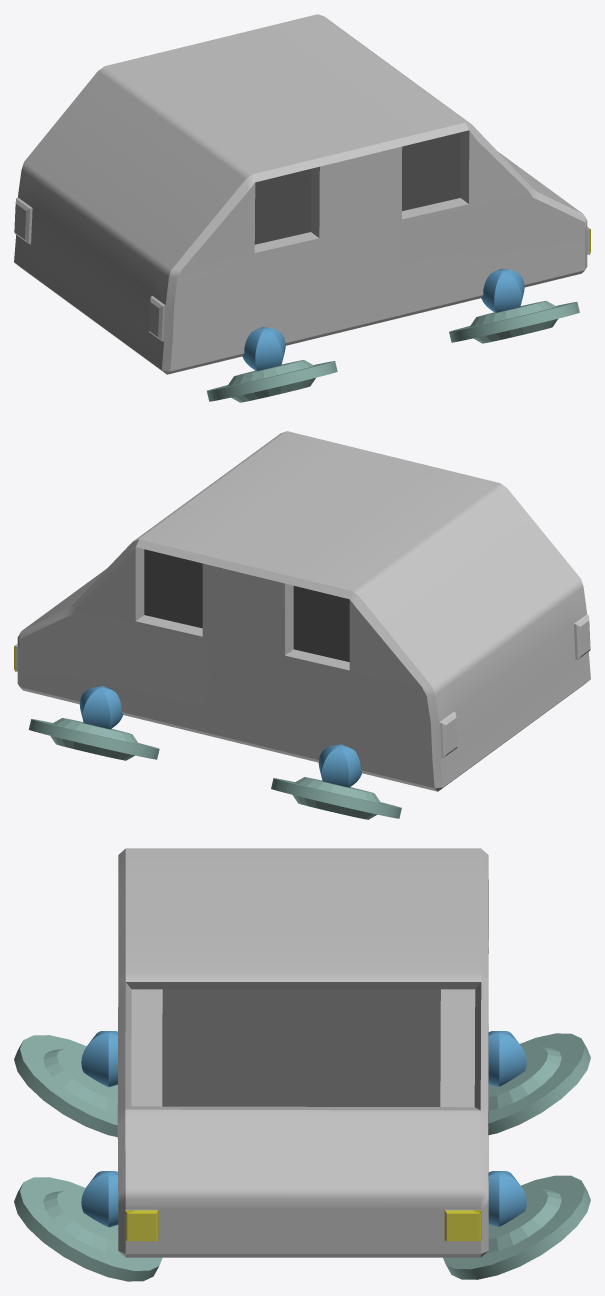
Rendered from Futristic car 2.fbx.
The picture shows the model from 3 angles, top to bottom: view 1: azimuth 30°, elevation 25°; view 2: azimuth 150°, elevation 25°; view 3: azimuth 270°, elevation 25°; orthographic projection. The views are drawn at different scales.
Visible parts, largest first — view 1: polySurface3793; view 2: polySurface3793; view 3: polySurface3793.
Boxes of the visible parts, left/top/right/bottom form: polySurface3793: left=14, top=14, right=590, bottom=402; polySurface3793: left=14, top=431, right=590, bottom=819; polySurface3793: left=14, top=848, right=590, bottom=1281.
Bounding box in the file's own units: 93.49 × 47.3 × 90.06.
